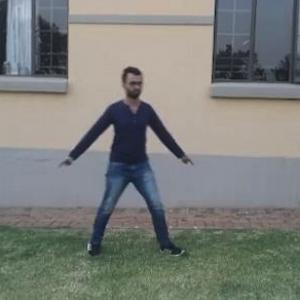land: (64, 69, 189, 242)
